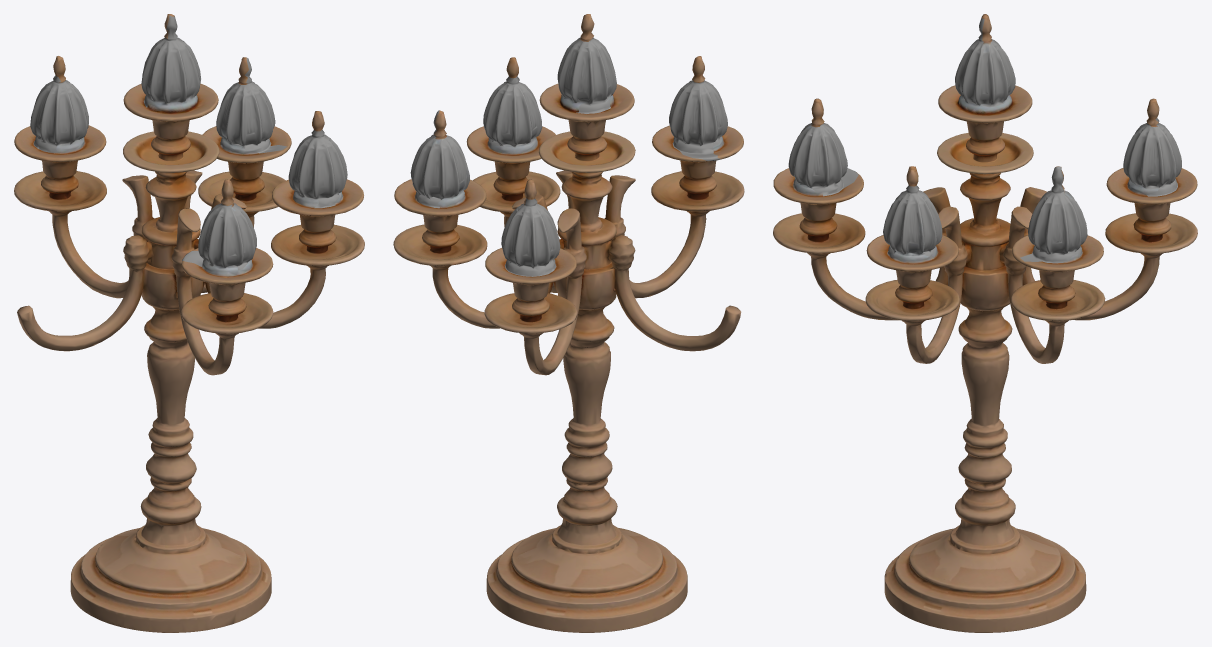
File: decor-candelabrum-gold.glb
The picture shows the model from 3 angles, left to right: view 1: azimuth 30°, elevation 25°; view 2: azimuth 150°, elevation 25°; view 3: azimuth 270°, elevation 25°; orthographic projection.
Visible parts, largest first — view 1: tripo_node_b9ae2e02-ad8d-4af9-abdf-145bac22a39a; view 2: tripo_node_b9ae2e02-ad8d-4af9-abdf-145bac22a39a; view 3: tripo_node_b9ae2e02-ad8d-4af9-abdf-145bac22a39a.
Boxes of the visible parts, bbox=[...] form: tripo_node_b9ae2e02-ad8d-4af9-abdf-145bac22a39a: bbox=[14, 14, 364, 632]; tripo_node_b9ae2e02-ad8d-4af9-abdf-145bac22a39a: bbox=[393, 14, 744, 632]; tripo_node_b9ae2e02-ad8d-4af9-abdf-145bac22a39a: bbox=[773, 14, 1197, 632].
Size of the model in its own units: 0.3032 by 0.55 by 0.368.
2 materials, 1 textured.
